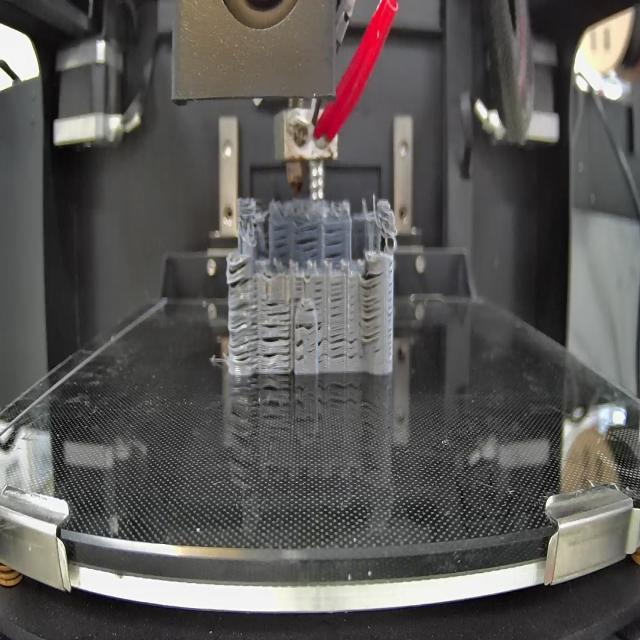cracks: (229, 298, 259, 366), (358, 268, 384, 342), (261, 323, 290, 369), (329, 328, 358, 364), (227, 255, 256, 290), (296, 221, 321, 260), (271, 219, 291, 261), (324, 225, 347, 260), (329, 279, 344, 318), (266, 299, 291, 318), (317, 321, 327, 363), (293, 334, 306, 366), (292, 277, 304, 302), (292, 320, 316, 332), (312, 281, 324, 304), (302, 303, 314, 315)
